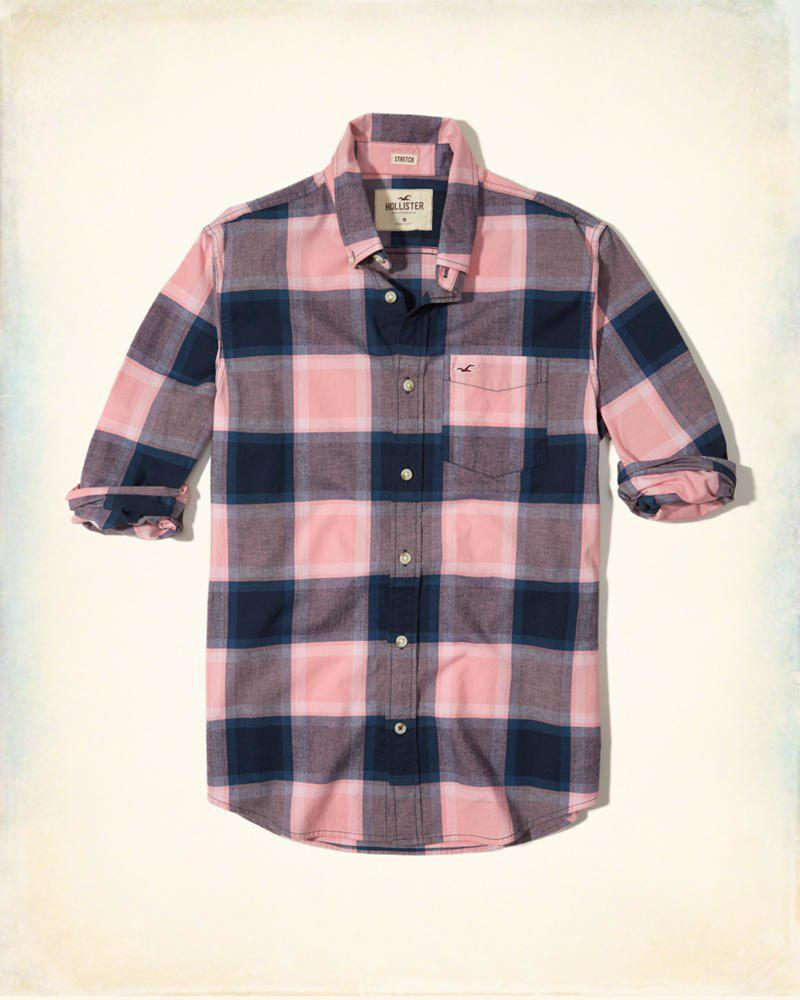teeshirt: (52, 110, 761, 890)
